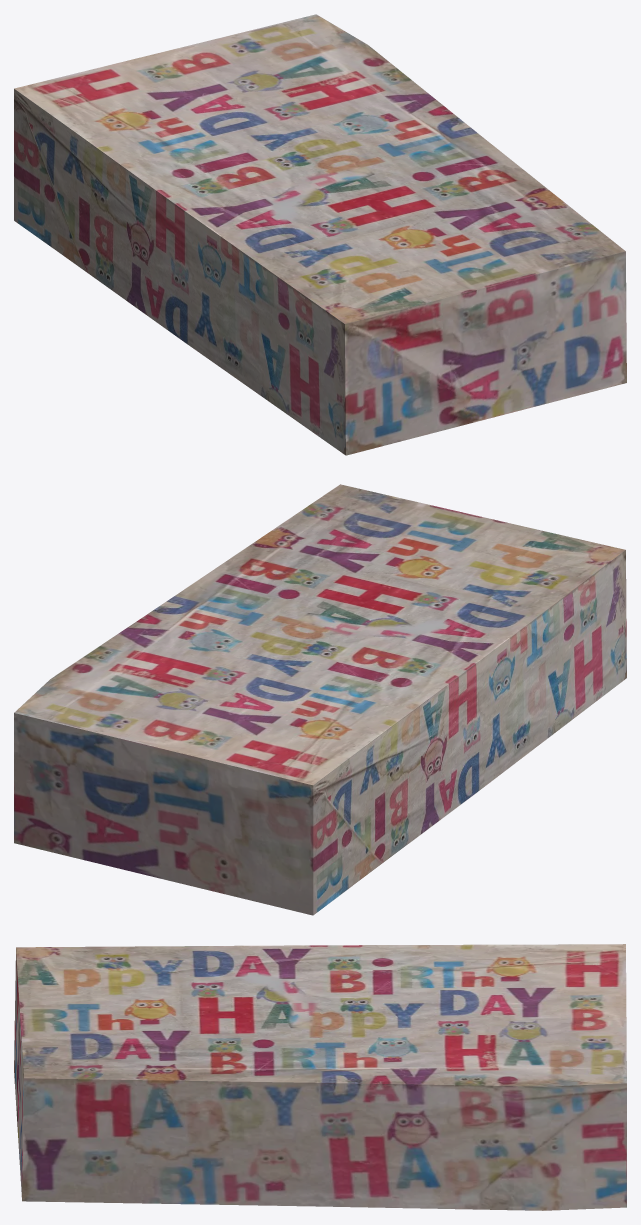
The model's file is b_day_present.glb.
3 views of the same model, one above another, from view 1: azimuth 30°, elevation 25°; view 2: azimuth 150°, elevation 25°; view 3: azimuth 270°, elevation 25° (orthographic). The views are drawn at different scales.
Visible parts, largest first — view 1: Box_LP__0; view 2: Box_LP__0; view 3: Box_LP__0.
Boxes of the visible parts, box(x1,y1,x2,y2) form: Box_LP__0: box(14, 14, 626, 455); Box_LP__0: box(14, 484, 626, 915); Box_LP__0: box(14, 944, 626, 1210).
Bounding box in the file's own units: 3.01 × 1.22 × 5.46.
1 material, 1 textured.
